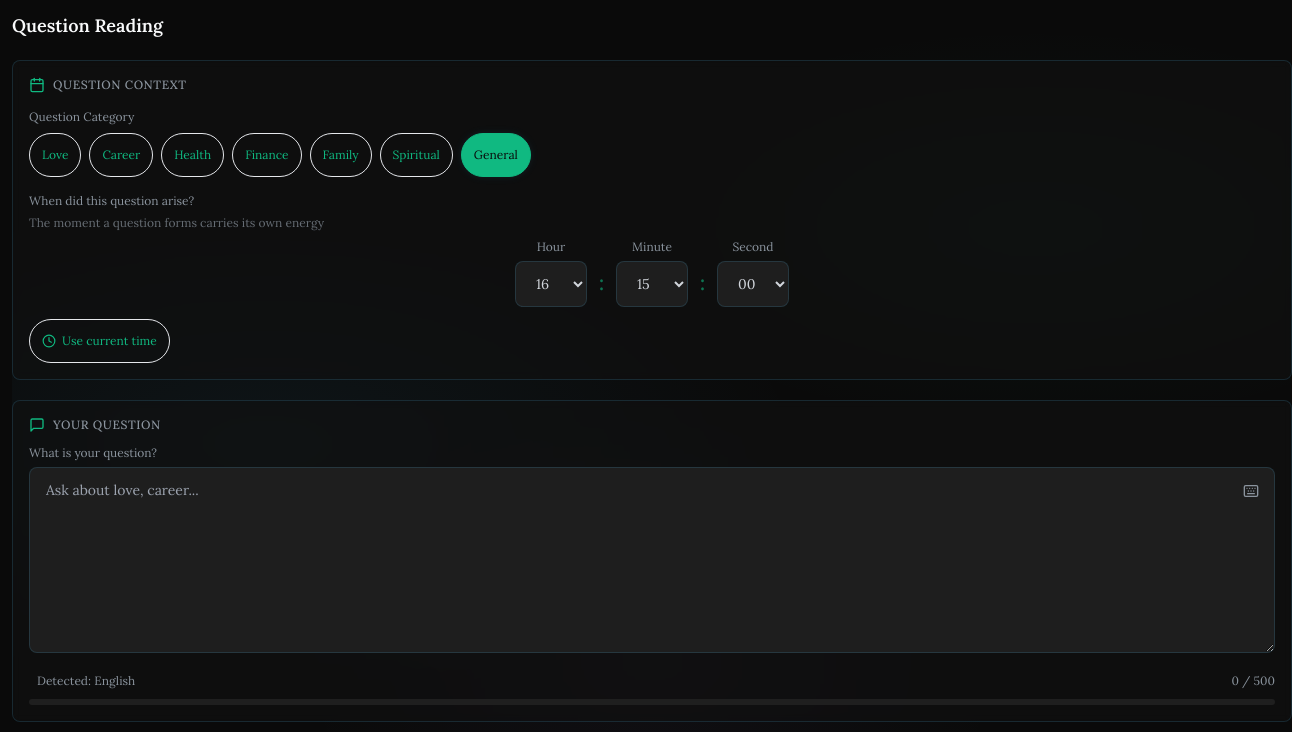
QuestionReadingForm › character counter updates as user types
Type "Hello" into the text box with test id "question-input" at (652, 560), box [29,467,1275,653]
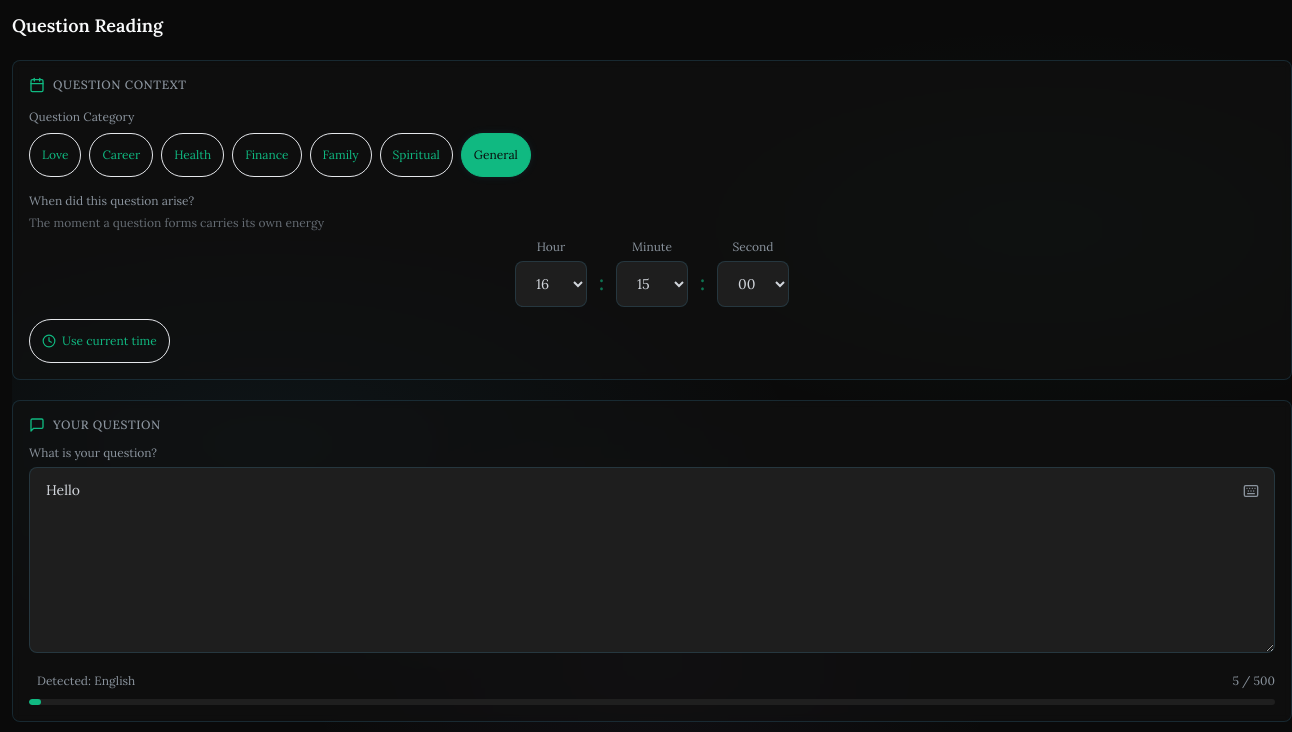
Now the text with test id "char-counter" reads "5 / 500", box [1232,673,1275,688]
